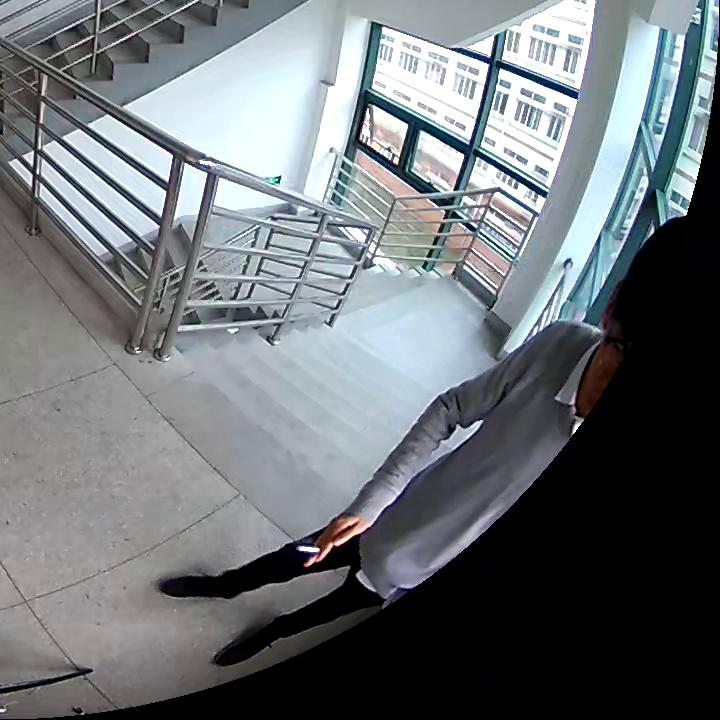handsmoke: (295, 514, 369, 567)
